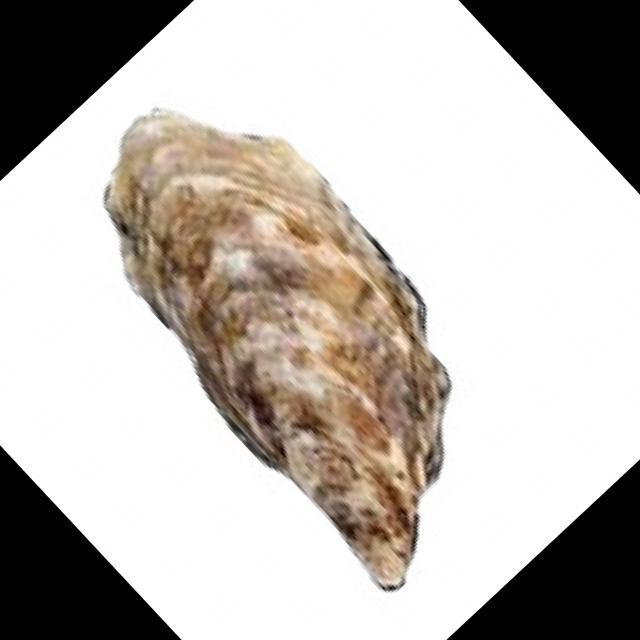Oyster- Indeterminate: (102, 110, 452, 592)
